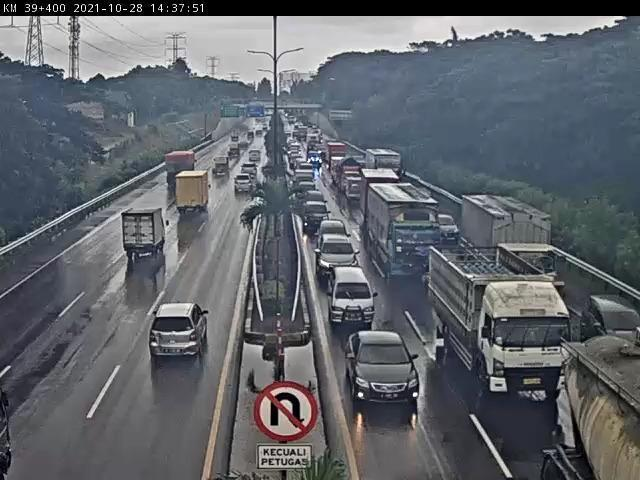car: (334, 328, 441, 418), (321, 258, 386, 328), (583, 286, 640, 349), (154, 306, 198, 365), (307, 233, 363, 266), (303, 199, 336, 232), (292, 188, 335, 210), (320, 219, 350, 248), (439, 212, 460, 248)
truck: (452, 258, 590, 420), (470, 211, 573, 307), (377, 199, 450, 284), (118, 206, 185, 269), (173, 165, 218, 226)
